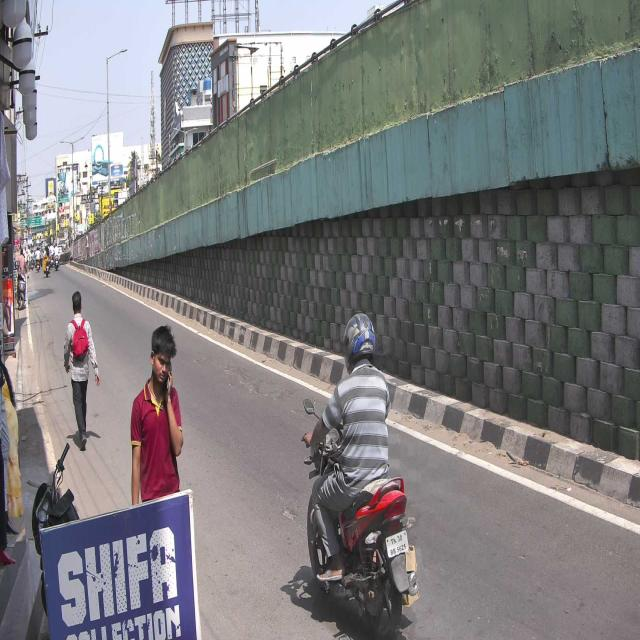single_rider: (305, 309, 421, 632)
